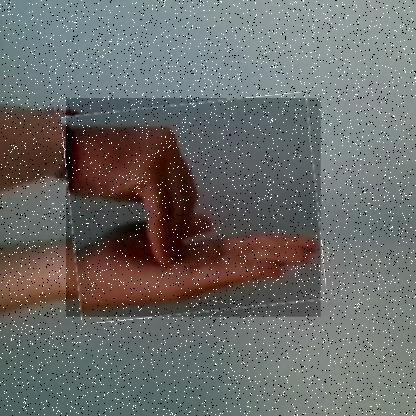Z: (66, 98, 322, 318)
